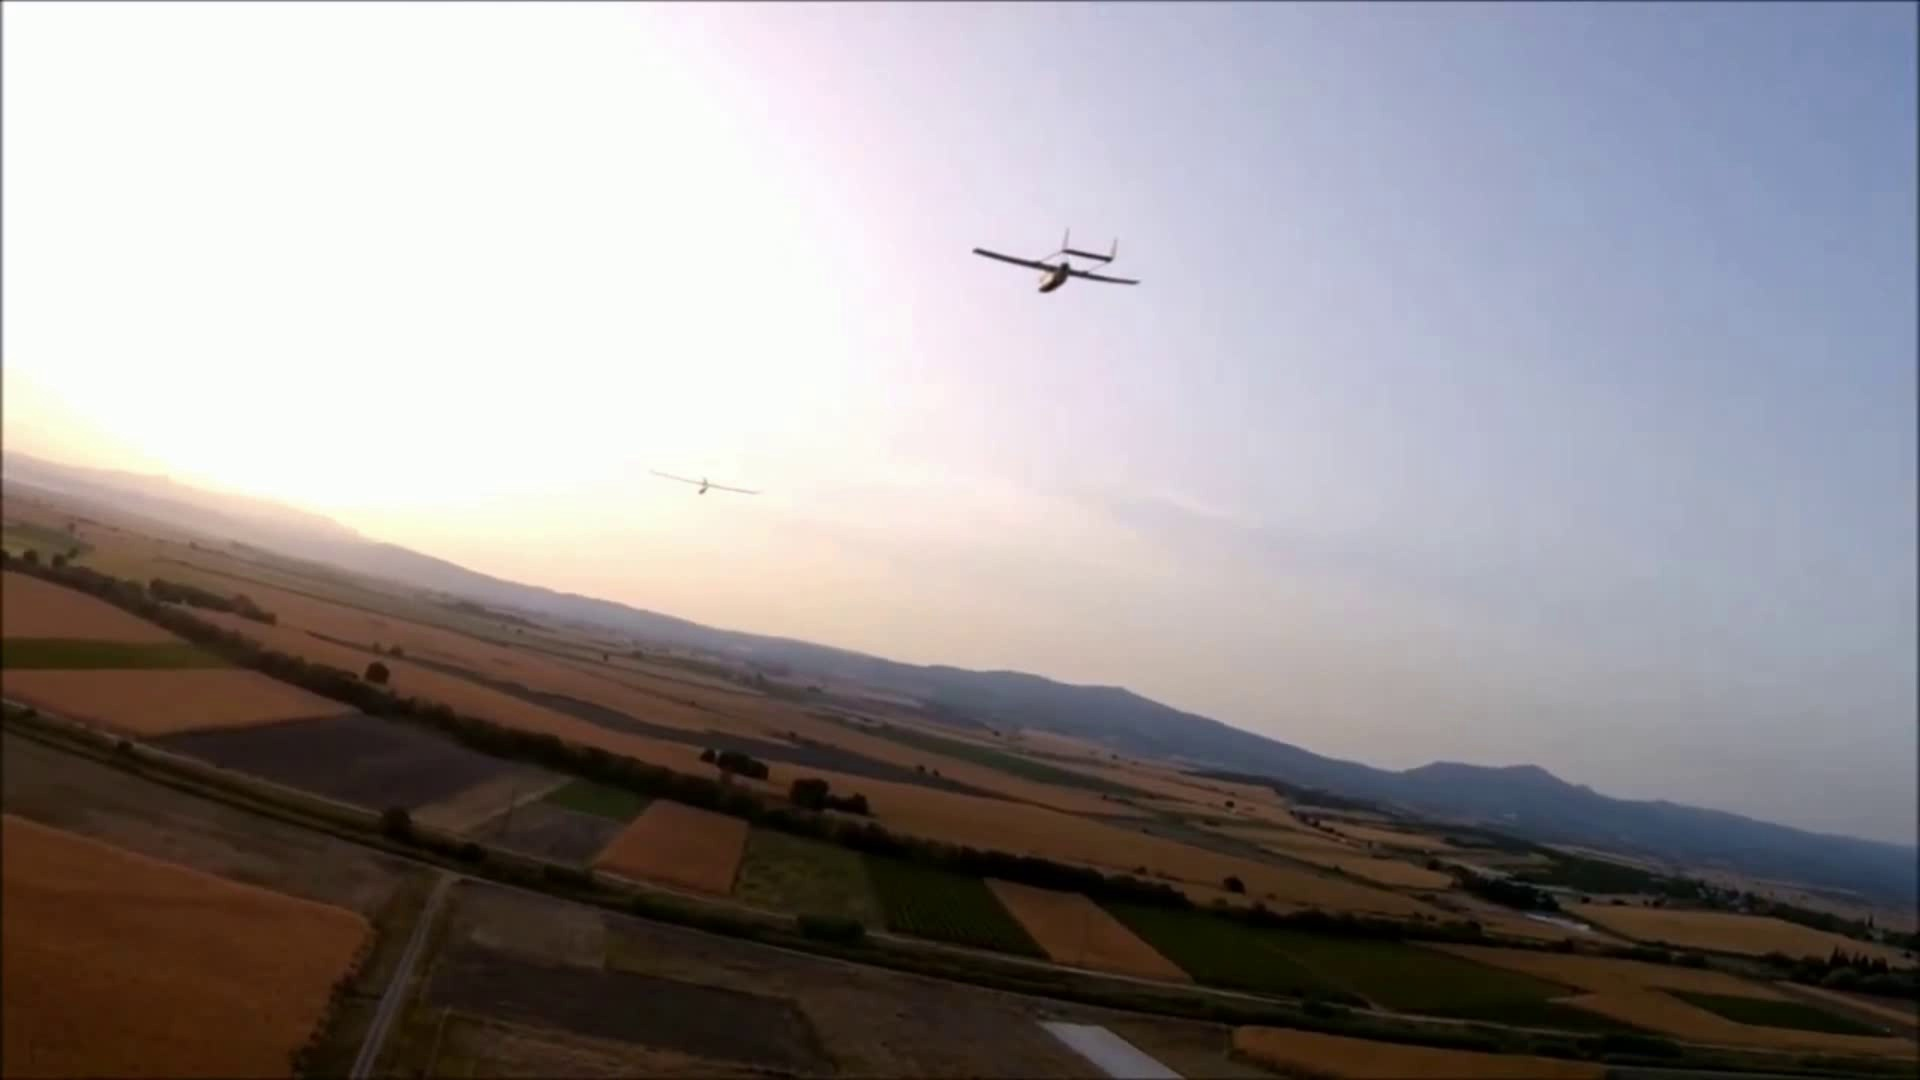airplane: (4, 361, 1907, 950), (968, 230, 1142, 292)
